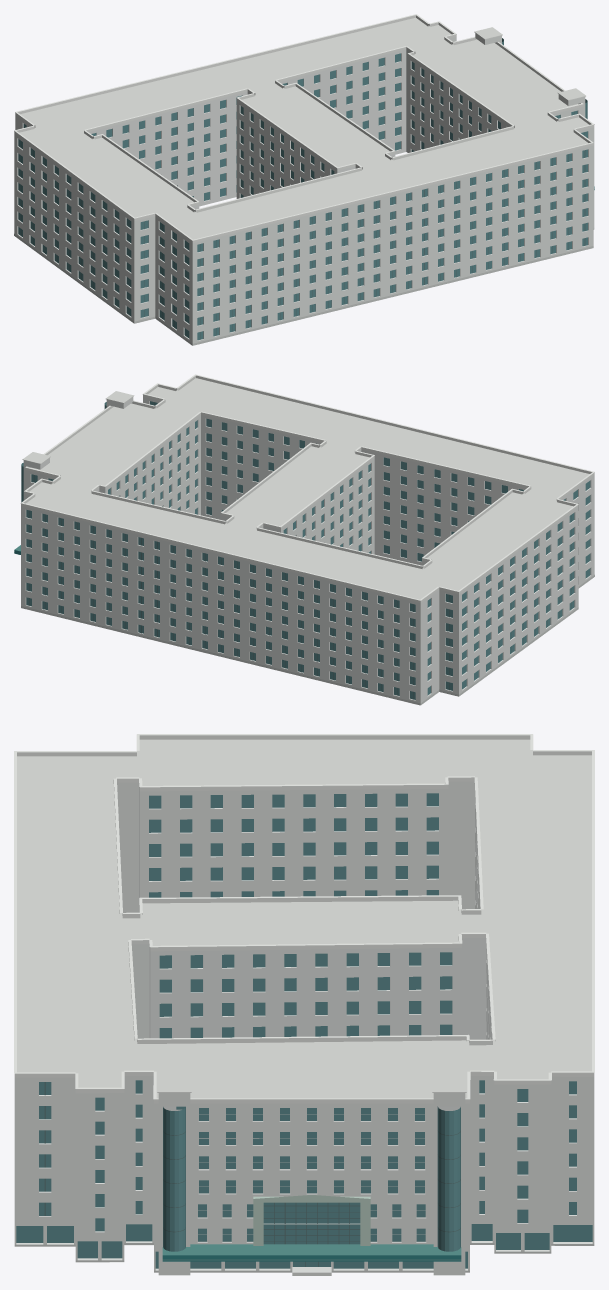
3 views of the same model, one above another, from view 1: azimuth 30°, elevation 25°; view 2: azimuth 150°, elevation 25°; view 3: azimuth 270°, elevation 25° (orthographic). The views are drawn at different scales.
Parts seen in each view (by area): view 1: woojung__wall, woojung__roof, woojung__glass, woojung__parapet, woojung__trim, woojung__frame, woojung__base; view 2: woojung__wall, woojung__roof, woojung__glass, woojung__parapet, woojung__trim, woojung__frame, woojung__base; view 3: woojung__wall, woojung__roof, woojung__glass, woojung__parapet, woojung__trim, woojung__canopyTop, woojung__windowTrim, woojung__canopy, woojung__portalTrim, woojung__frame, woojung__base.
Boxes of the visible parts, bbox=[...] form: woojung__wall: bbox=[14, 33, 594, 345]; woojung__roof: bbox=[19, 17, 588, 239]; woojung__glass: bbox=[18, 38, 587, 340]; woojung__parapet: bbox=[14, 15, 594, 242]; woojung__trim: bbox=[14, 14, 594, 240]; woojung__frame: bbox=[21, 111, 587, 339]; woojung__base: bbox=[14, 228, 594, 345]; woojung__wall: bbox=[21, 397, 594, 704]; woojung__roof: bbox=[23, 378, 589, 599]; woojung__glass: bbox=[21, 401, 590, 699]; woojung__parapet: bbox=[21, 375, 594, 602]; woojung__trim: bbox=[20, 374, 594, 600]; woojung__frame: bbox=[21, 402, 571, 699]; woojung__base: bbox=[21, 575, 594, 705]; woojung__wall: bbox=[14, 781, 594, 1275]; woojung__roof: bbox=[17, 739, 591, 1262]; woojung__glass: bbox=[16, 793, 592, 1268]; woojung__parapet: bbox=[14, 735, 594, 1103]; woojung__trim: bbox=[14, 734, 594, 1100]; woojung__canopyTop: bbox=[162, 1244, 461, 1255]; woojung__windowTrim: bbox=[197, 1108, 426, 1241]; woojung__canopy: bbox=[162, 1255, 461, 1261]; woojung__portalTrim: bbox=[253, 1195, 370, 1245]; woojung__frame: bbox=[44, 1082, 460, 1266]; woojung__base: bbox=[14, 1243, 594, 1272].
Size of the model in its own units: 104 by 24 by 67.61.
